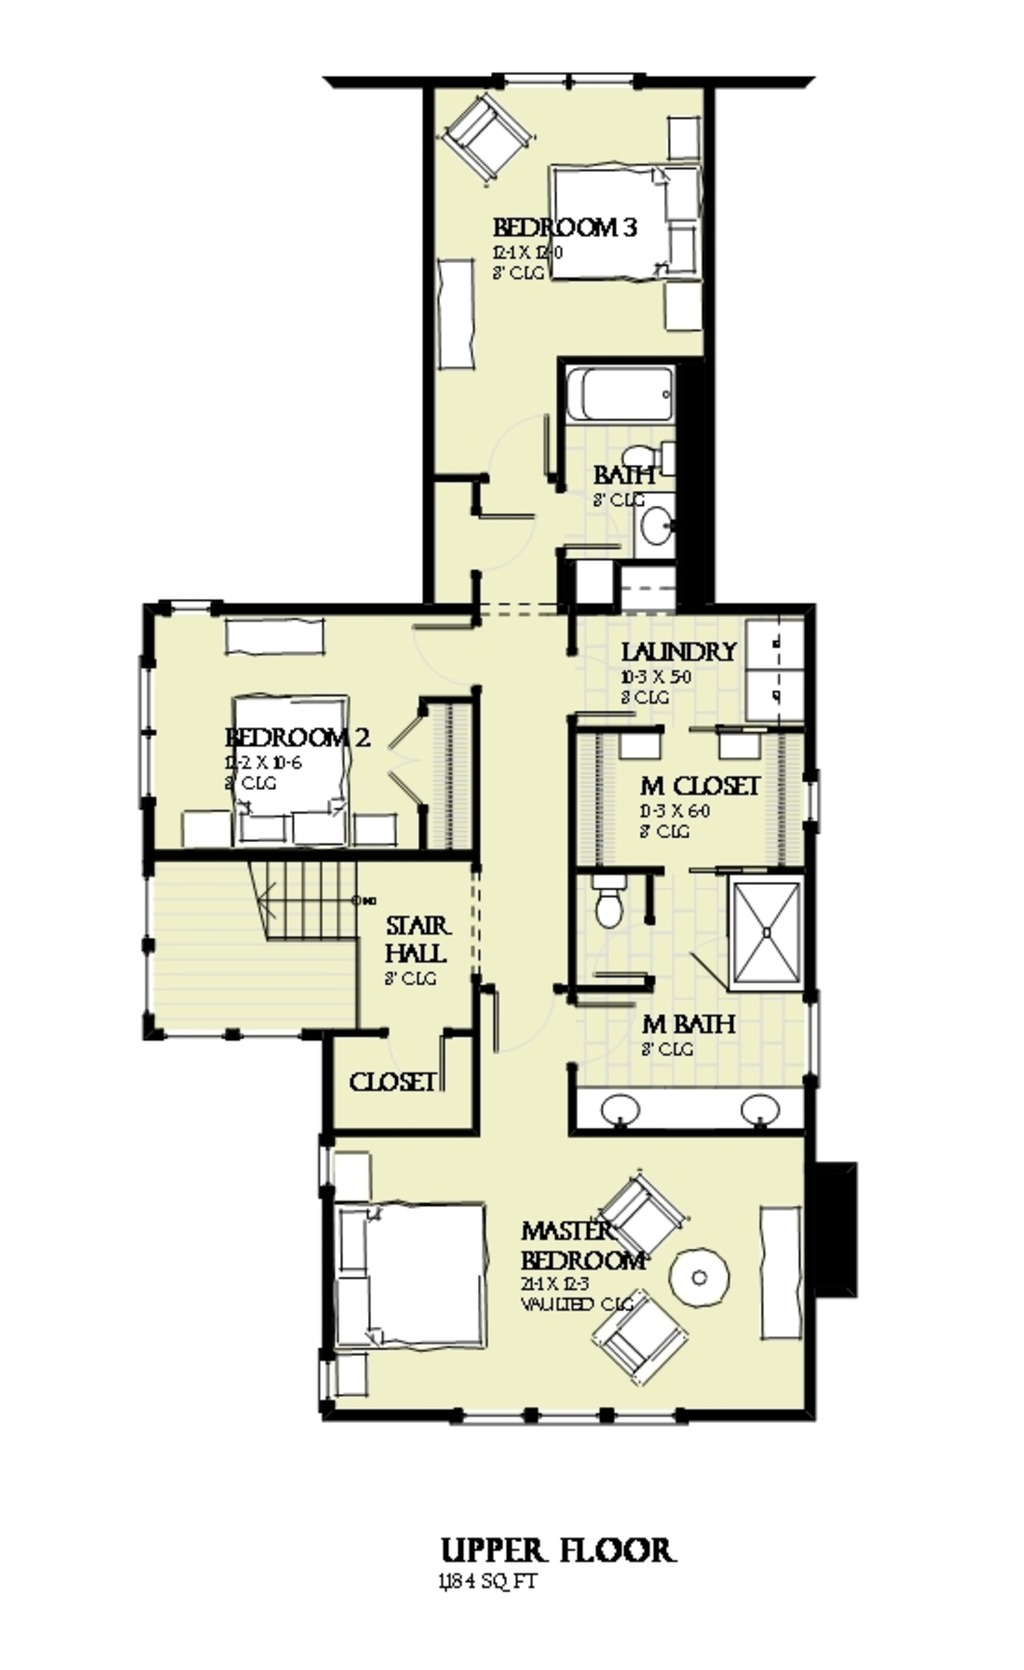bed: (331, 1202, 498, 1350), (543, 157, 713, 287)
large_sink: (575, 868, 634, 933)
small_sink: (575, 1083, 806, 1133), (629, 490, 679, 559)
small_sofa: (588, 1284, 679, 1384), (442, 97, 530, 186), (604, 1170, 686, 1264)
stairs: (245, 847, 374, 950)
tub: (559, 365, 686, 427)
windows: (132, 663, 169, 799), (488, 68, 652, 93)
